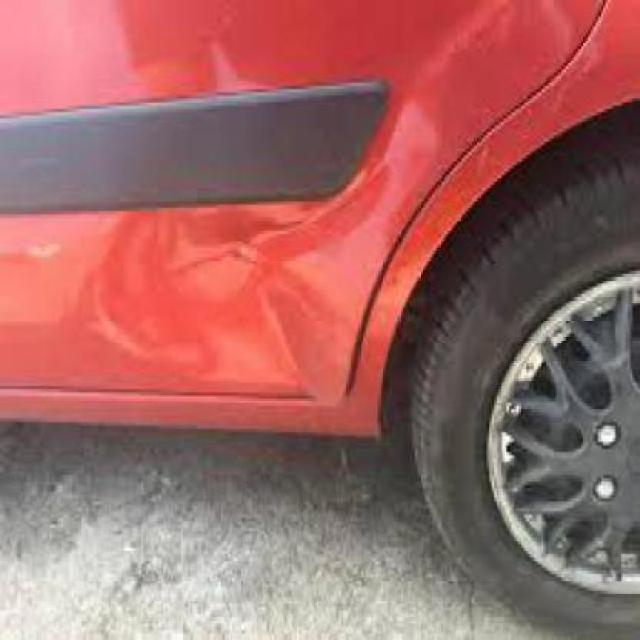doorouter-dent: (24, 136, 416, 396)
